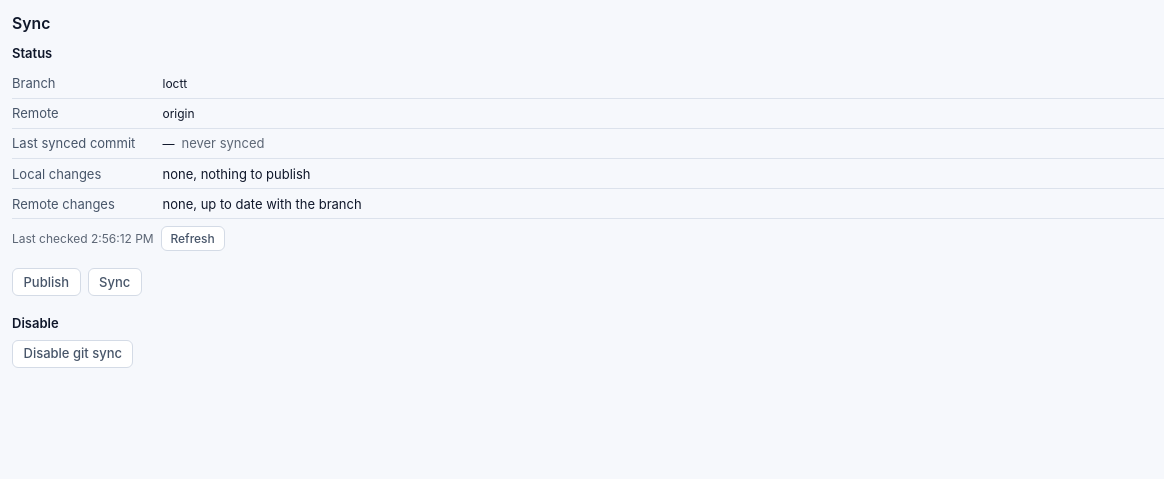
Scenario: GitSyncPanel — Disable inline failure notice (A328/B6) › the confirm box stays open when Disable fails (red-proved against the old close-on-click ordering)
Click the button with test id "git-disable". click: (73, 354)
box: [12, 340, 134, 368]
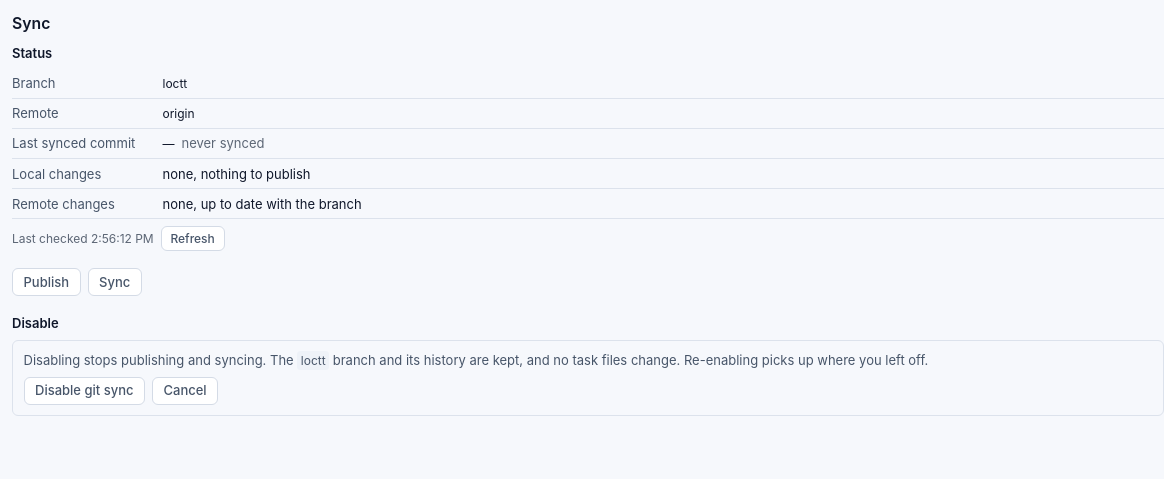
Result: the element with test id "git-disable-confirm" is shown at [12, 340, 1163, 416]
Click the button with test id "git-disable-confirm-button". click: (84, 391)
box: [24, 377, 145, 405]
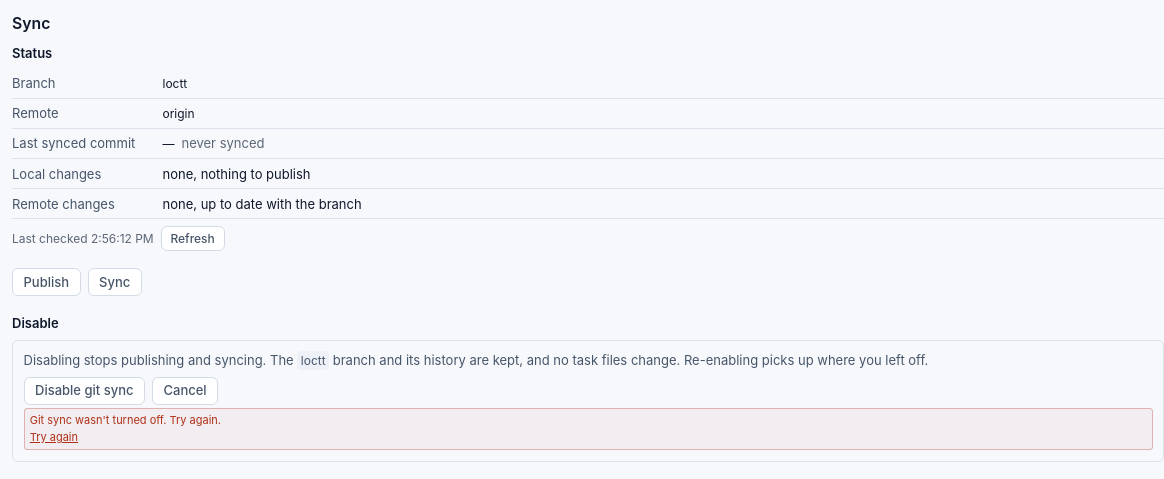
Result: the element with test id "git-disable-confirm" is shown at [12, 340, 1163, 462]
Result: the message "Git sync wasn't turned off. Try again. Try again" is shown at [24, 408, 1152, 450]
